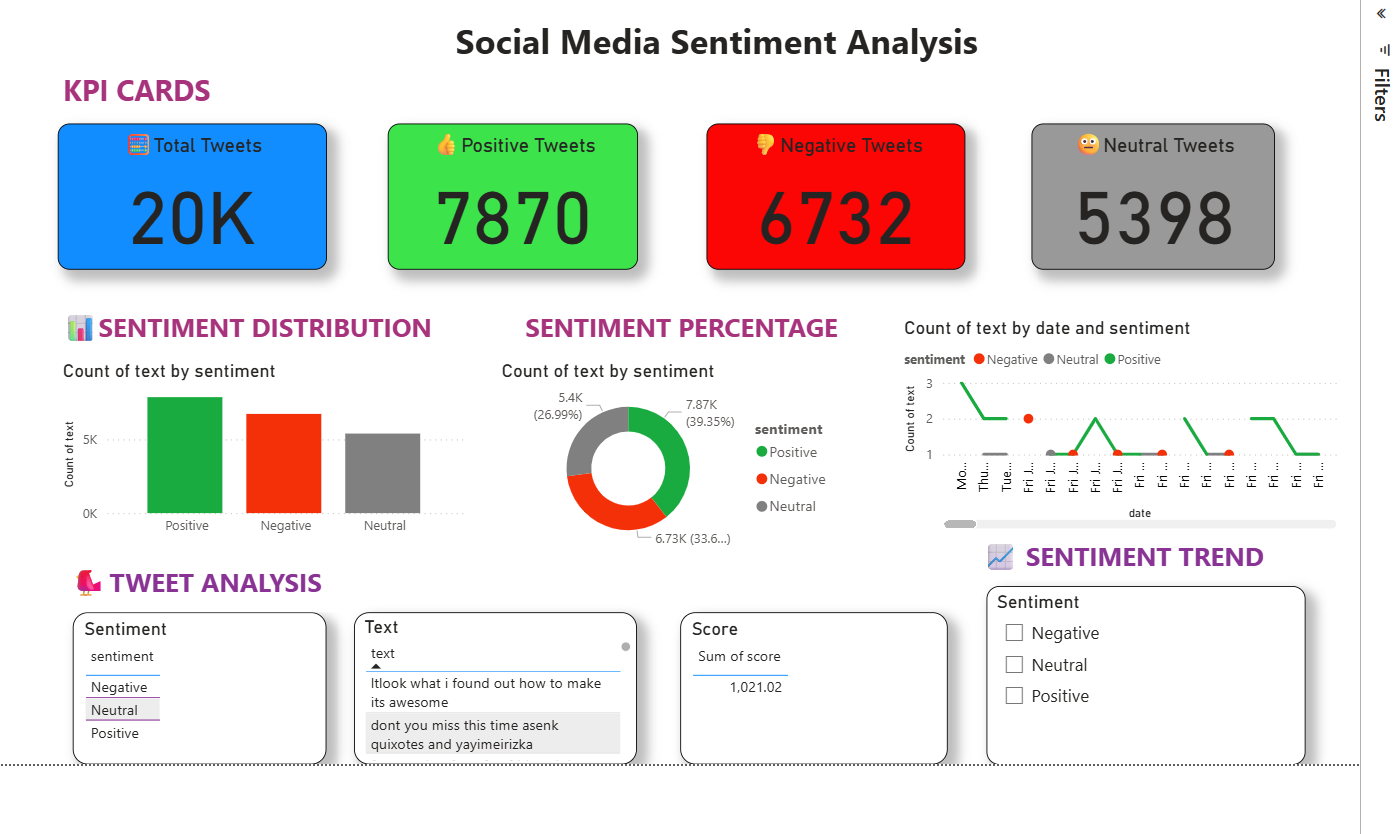

The dashboard page shown, as its layout file describes it:
{"tool":"powerbi","page":{"name":"Page 1","canvas":[1280,720],"ordinal":0},"visuals":[{"type":"textbox","box":[109.3,19.8,1153.5,75.6],"z":0},{"type":"card","title":"🧮Total Tweets","fields":{"Values":["sentiment140_output.Total Tweets"]},"box":[68.6,123.3,250,136],"z":1},{"type":"card","title":"👍Positive Tweets","fields":{"Values":["sentiment140_output.Positive Tweets"]},"box":[375.6,123.3,232.6,136],"z":2},{"type":"card","title":"👎Negative Tweets","fields":{"Values":["sentiment140_output.Negative Tweets"]},"box":[672.1,123.3,240.7,136],"z":3},{"type":"card","title":"😐Neutral Tweets","fields":{"Values":["sentiment140_output.Neutral Tweets"]},"box":[974.4,123.3,226.7,136],"z":4},{"type":"textbox","box":[68.6,68.6,165.1,45.3],"z":5},{"type":"clusteredColumnChart","fields":{"Category":["sentiment140_output.sentiment"],"Y":["sentiment140_output.text"]},"box":[68.3,342.5,383,172.9],"z":6},{"type":"textbox","box":[68.6,291.9,365.1,51.2],"z":7},{"type":"donutChart","fields":{"Category":["sentiment140_output.sentiment"],"Y":["sentiment140_output.text"]},"box":[476.9,342.5,326.5,183.5],"z":8},{"type":"textbox","box":[491.9,291.9,343,51.2],"z":9},{"type":"tableEx","title":"Text","fields":{"Values":["sentiment140_output.text"]},"box":[344.6,578.3,263.5,141.9],"z":10},{"type":"tableEx","title":"Sentiment","fields":{"Values":["sentiment140_output.sentiment"]},"box":[82.2,578.3,235.8,141.9],"z":11},{"type":"textbox","box":[68.6,529.1,282.6,48.8],"z":12},{"type":"tableEx","title":"Score","fields":{"Values":["sentiment140_output.score"]},"box":[647.7,578.3,248.6,141.9],"z":13},{"type":"slicer","title":"Sentiment","fields":{"Values":["sentiment140_output.sentiment"]},"box":[932.5,553.8,296.6,166.5],"z":14},{"type":"textbox","box":[924.4,504.7,289.5,43],"z":15},{"type":"lineChart","fields":{"Category":["sentiment140_output.date"],"Y":["sentiment140_output.text"],"Series":["sentiment140_output.sentiment"]},"box":[851.5,303,411.9,201.7],"z":16}]}

Visuals, with their boxes on the page's 1280x720 design canvas (x1, y1, x2, y2). These are canvas units, not pixel positions in the 1396x834 screenshot, which may show the page scaled, cropped or inside an application window:
textbox: 109/20/1263/95
"🧮Total Tweets" card: 69/123/319/259
"👍Positive Tweets" card: 376/123/608/259
"👎Negative Tweets" card: 672/123/913/259
"😐Neutral Tweets" card: 974/123/1201/259
textbox: 69/69/234/114
clusteredColumnChart - sentiment140_output.sentiment x sentiment140_output.text: 68/342/451/515
textbox: 69/292/434/343
donutChart - sentiment140_output.sentiment x sentiment140_output.text: 477/342/803/526
textbox: 492/292/835/343
"Text" tableEx: 345/578/608/720
"Sentiment" tableEx: 82/578/318/720
textbox: 69/529/351/578
"Score" tableEx: 648/578/896/720
"Sentiment" slicer: 932/554/1229/720
textbox: 924/505/1214/548
lineChart - sentiment140_output.date x sentiment140_output.text: 852/303/1263/505
